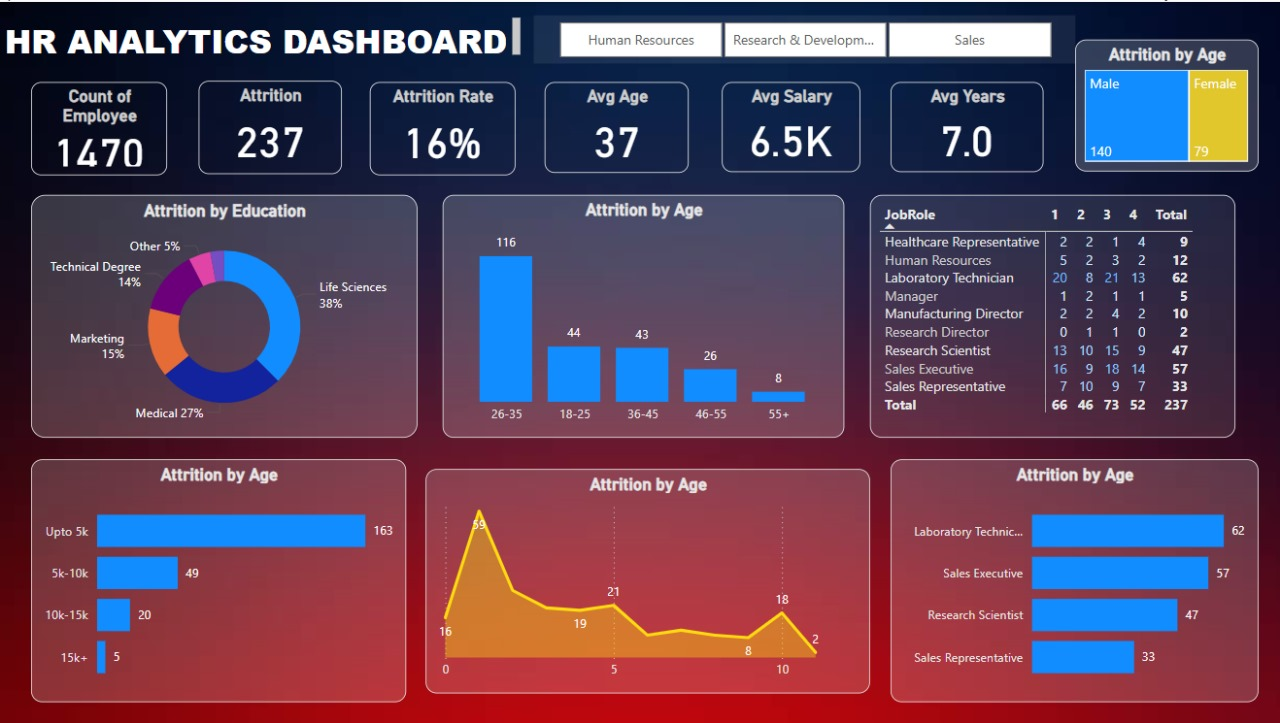

This screenshot's page, from the dashboard's own definition file:
{"tool":"powerbi","page":{"name":"Page 1","canvas":[1280,720],"ordinal":0},"visuals":[{"type":"card","title":"Count of Employee","fields":{"Values":["CountNonNull(HR_Analytics.EmpID)"]},"box":[33.8,79.6,135.1,92.9],"z":0},{"type":"card","title":"Attrition","fields":{"Values":["Sum(HR_Analytics.AttritionCount)"]},"box":[200.3,78.4,142.4,92.9],"z":1000},{"type":"card","title":"Attrition Rate","fields":{"Values":["HR_Analytics.AttritionRate"]},"box":[370.4,79.6,144.8,92.9],"z":2000},{"type":"card","title":"Avg Age","fields":{"Values":["Avg(HR_Analytics.Age)"]},"box":[544.1,79.6,143.6,90.5],"z":3000},{"type":"card","title":"Avg Salary","fields":{"Values":["Avg(HR_Analytics.MonthlyIncome)"]},"box":[720.2,79.6,137.5,89.3],"z":4000},{"type":"card","title":"Avg Years","fields":{"Values":["Avg(HR_Analytics.YearsAtCompany)"]},"box":[887.9,79.6,152,89.3],"z":5000},{"type":"donutChart","title":" Attrition by Education","fields":{"Category":["HR_Analytics.EducationField"],"Y":["Sum(HR_Analytics.AttritionCount)"]},"box":[33.8,191.8,383.6,241.3],"z":6000},{"type":"columnChart","title":" Attrition by Age","fields":{"Category":["HR_Analytics.AgeGroup"],"Y":["Sum(HR_Analytics.AttritionCount)"]},"box":[442.8,191.8,399.3,241.3],"z":7000},{"type":"pivotTable","fields":{"Rows":["HR_Analytics.JobRole"],"Columns":["HR_Analytics.JobSatisfaction"],"Values":["Sum(HR_Analytics.AttritionCount)"]},"box":[867.4,191.8,363.1,241.3],"z":8000},{"type":"barChart","title":" Attrition by Age","fields":{"Category":["HR_Analytics.SalarySlab"],"Y":["Sum(HR_Analytics.AttritionCount)"]},"box":[33.8,454.8,372.8,241.3],"z":9000},{"type":"barChart","title":" Attrition by Age","fields":{"Y":["Sum(HR_Analytics.AttritionCount)"],"Category":["HR_Analytics.JobRole"]},"box":[887.9,454.8,365.6,241.3],"z":10000},{"type":"areaChart","title":" Attrition by Age","fields":{"Category":["HR_Analytics.YearsAtCompany"],"Y":["Sum(HR_Analytics.AttritionCount)"]},"box":[425.8,464.1,441.4,222.8],"z":11000},{"type":"treemap","title":" Attrition by Age","fields":{"Group":["HR_Analytics.Gender"],"Values":["Sum(HR_Analytics.AttritionCount)"]},"box":[1071.3,37.4,182.2,131.5],"z":11001},{"type":"slicer","fields":{"Values":["HR_Analytics.Department"]},"box":[533.2,13.3,538.1,48.3],"z":11002},{"type":"textbox","box":[2.4,10.9,522.4,50.7],"z":11003}]}

Visuals, with their boxes in screenshot pixels (x1, y1, x2, y2), scaled from the page's 1280x720 canvas onto the 1280x723 screenshot:
"Count of Employee" card: [34, 80, 169, 173]
"Attrition" card: [200, 79, 343, 172]
"Attrition Rate" card: [370, 80, 515, 173]
"Avg Age" card: [544, 80, 688, 171]
"Avg Salary" card: [720, 80, 858, 170]
"Avg Years" card: [888, 80, 1040, 170]
" Attrition by Education" donutChart: [34, 193, 417, 435]
" Attrition by Age" columnChart: [443, 193, 842, 435]
pivotTable - HR_Analytics.JobRole x HR_Analytics.JobSatisfaction: [867, 193, 1230, 435]
" Attrition by Age" barChart: [34, 457, 407, 699]
" Attrition by Age" barChart: [888, 457, 1254, 699]
" Attrition by Age" areaChart: [426, 466, 867, 690]
" Attrition by Age" treemap: [1071, 38, 1254, 170]
slicer - HR_Analytics.Department: [533, 13, 1071, 62]
textbox: [2, 11, 525, 62]
